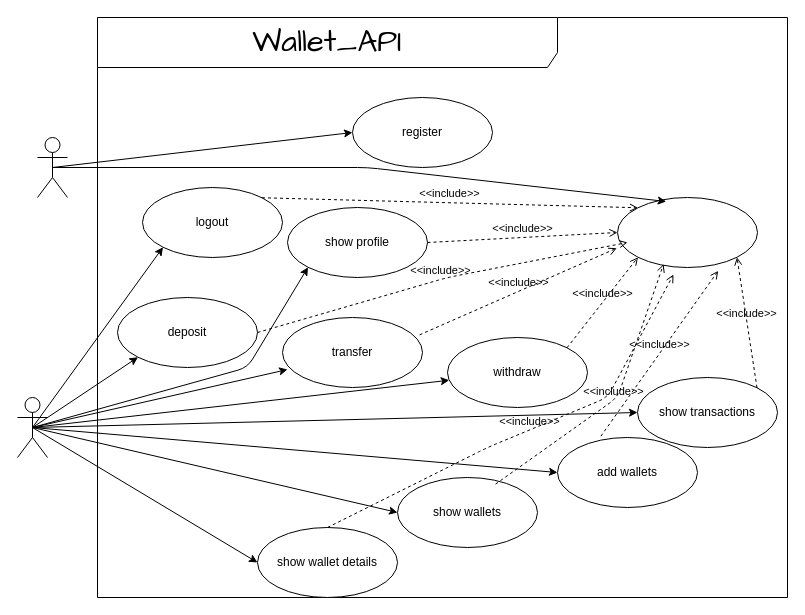
This 805x615 diagram has some shape labels left out. Here are the shapes that lost their labels. From the top down, the box of each, then its label:
(36, 136, 68, 198): guest
(616, 196, 758, 268): login
(16, 396, 48, 458): User
